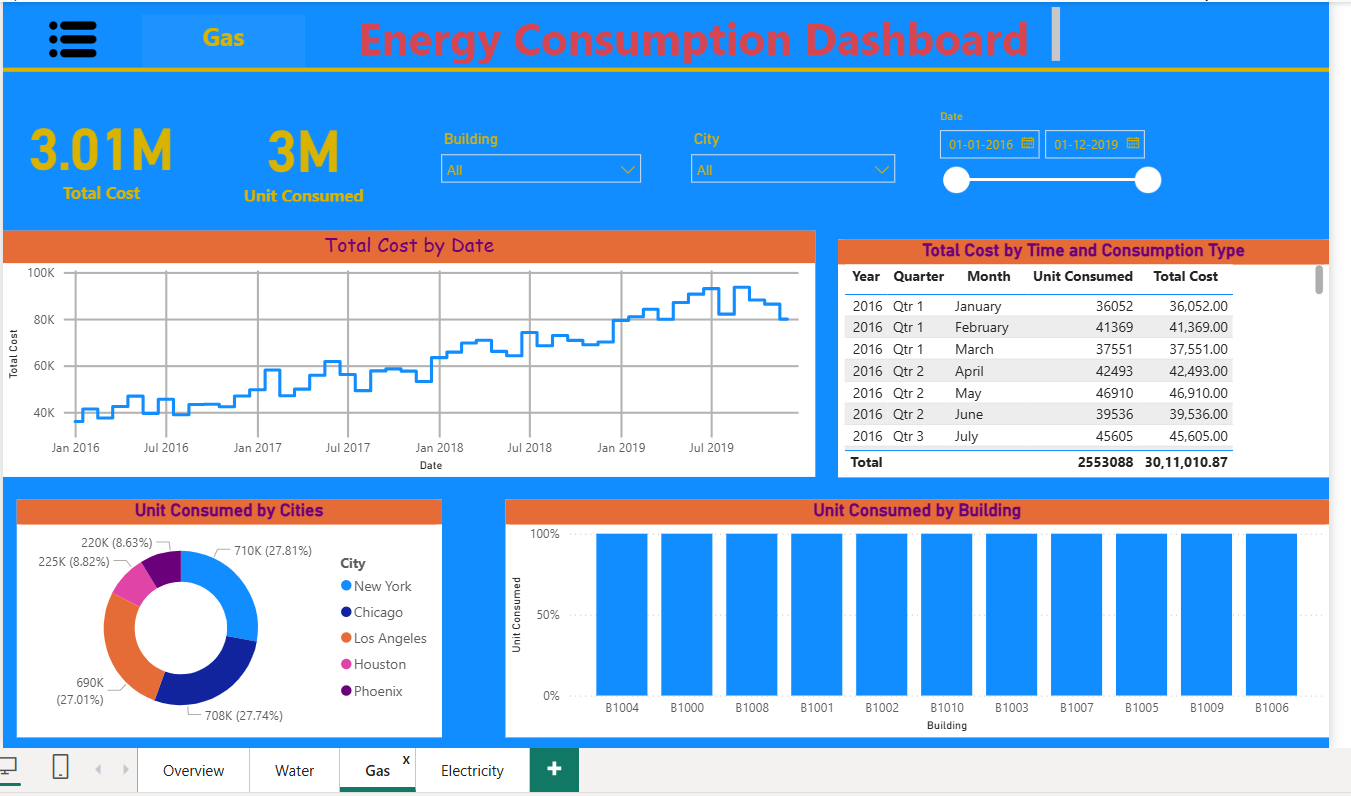

This screenshot's page, from the dashboard's own definition file:
{"tool":"powerbi","page":{"name":"Gas","canvas":[1280,720],"ordinal":2},"visuals":[{"type":"shape","box":[0,0,1280.3,130.7],"z":0},{"type":"image","box":[29.6,8.1,74.1,55.3],"z":1000},{"type":"textbox","box":[337.6,0,687.2,64.6],"z":2000},{"type":"textbox","box":[133.4,12.1,157.7,51.2],"z":3000},{"type":"card","fields":{"Values":["Energy Consumptions.Total Cost"]},"box":[0,84.9,190,122.6],"z":4000},{"type":"card","fields":{"Values":["Energy Consumptions.Unit Consumed"]},"box":[190,98.4,199.5,98.4],"z":5000},{"type":"slicer","fields":{"Values":["Energy Consumptions.Building"]},"box":[412.4,118.6,212.9,79.5],"z":6000},{"type":"slicer","fields":{"Values":["Building Master.City"]},"box":[653.6,118.6,217,72.8],"z":7000},{"type":"slicer","fields":{"Values":["Energy Consumptions.Date"]},"box":[892.1,98.4,234.5,109.2],"z":8000},{"type":"tableEx","title":"Total Cost by Time and Consumption Type","fields":{"Values":["Energy Consumptions.Date.Variation.Date Hierarchy.Year","Energy Consumptions.Date.Variation.Date Hierarchy.Quarter","Energy Consumptions.Date.Variation.Date Hierarchy.Month","Energy Consumptions.Unit Consumed","Energy Consumptions.Total Cost"]},"box":[805.9,229.2,474.1,229.2],"z":9000},{"type":"donutChart","title":"Unit Consumed by Cities","fields":{"Y":["Energy Consumptions.Unit Consumed"],"Category":["Building Master.City"]},"box":[13.3,480.2,410.2,229.2],"z":10000},{"type":"hundredPercentStackedColumnChart","fields":{"Y":["Energy Consumptions.Unit Consumed"],"Category":["Energy Consumptions.Building"]},"box":[485,480.2,795,229.2],"z":11000},{"type":"lineChart","fields":{"Y":["Energy Consumptions.Total Cost"],"Category":["Energy Consumptions.Date"]},"box":[0,220.8,784.2,237.7],"z":12000},{"type":"actionButton","box":[0,0,104.4,64.4],"z":14000},{"type":"actionButton","box":[238.9,0,104.4,64.4],"z":15000}]}

Visuals, with their boxes on the page's 1280x720 design canvas (x1, y1, x2, y2). These are canvas units, not pixel positions in the 1351x796 screenshot, which may show the page scaled, cropped or inside an application window:
shape: select_region(0, 0, 1280, 131)
image: select_region(30, 8, 104, 63)
textbox: select_region(338, 0, 1025, 65)
textbox: select_region(133, 12, 291, 63)
card - Energy Consumptions.Total Cost: select_region(0, 85, 190, 208)
card - Energy Consumptions.Unit Consumed: select_region(190, 98, 390, 197)
slicer - Energy Consumptions.Building: select_region(412, 119, 625, 198)
slicer - Building Master.City: select_region(654, 119, 871, 191)
slicer - Energy Consumptions.Date: select_region(892, 98, 1127, 208)
"Total Cost by Time and Consumption Type" tableEx: select_region(806, 229, 1280, 458)
"Unit Consumed by Cities" donutChart: select_region(13, 480, 424, 709)
hundredPercentStackedColumnChart - Energy Consumptions.Unit Consumed x Energy Consumptions.Building: select_region(485, 480, 1280, 709)
lineChart - Energy Consumptions.Total Cost x Energy Consumptions.Date: select_region(0, 221, 784, 458)
actionButton: select_region(0, 0, 104, 64)
actionButton: select_region(239, 0, 343, 64)
